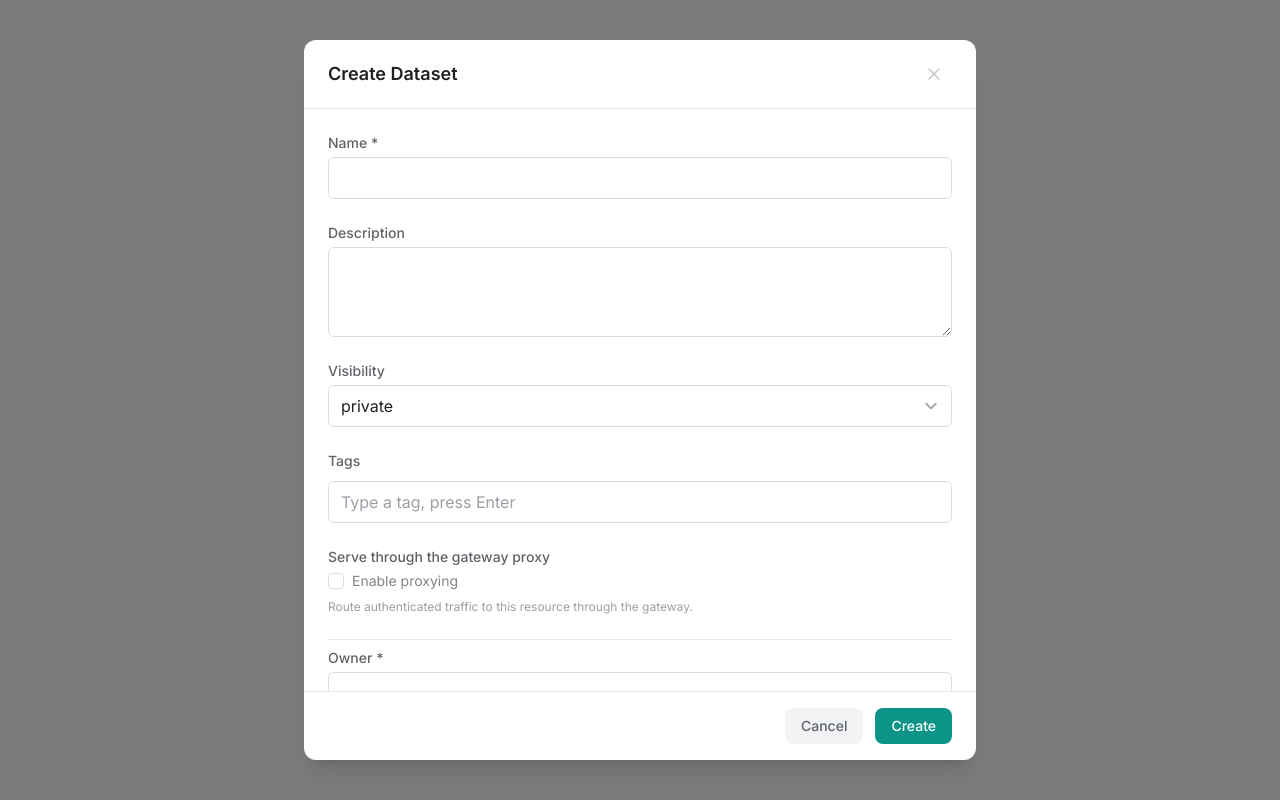
Test case: CustomEntityForm › blocks submit when proxying is on but the target URL is blank
Step 1. Type "proxied-ds" into the 1st field → (640, 178), box [328,157,952,199]
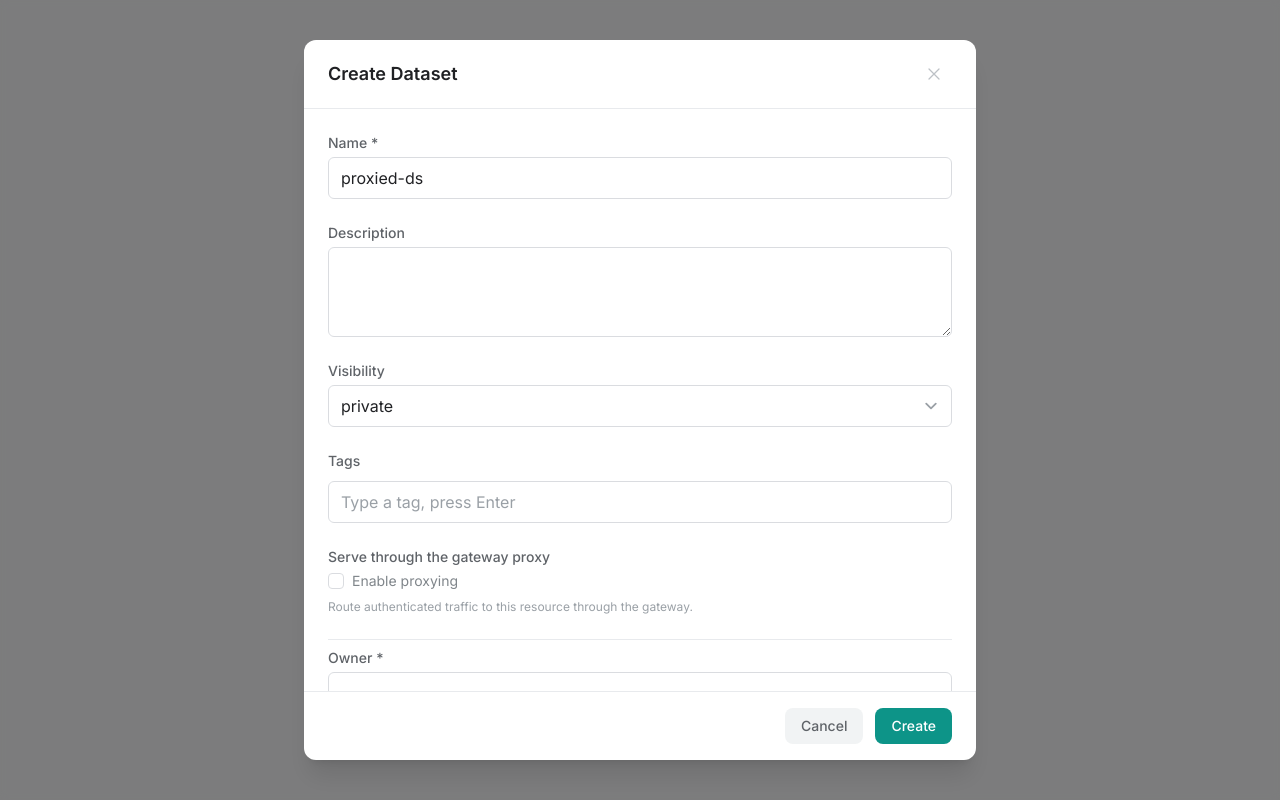
Step 2. Click the checkbox → (336, 581), box [328,573,344,589]
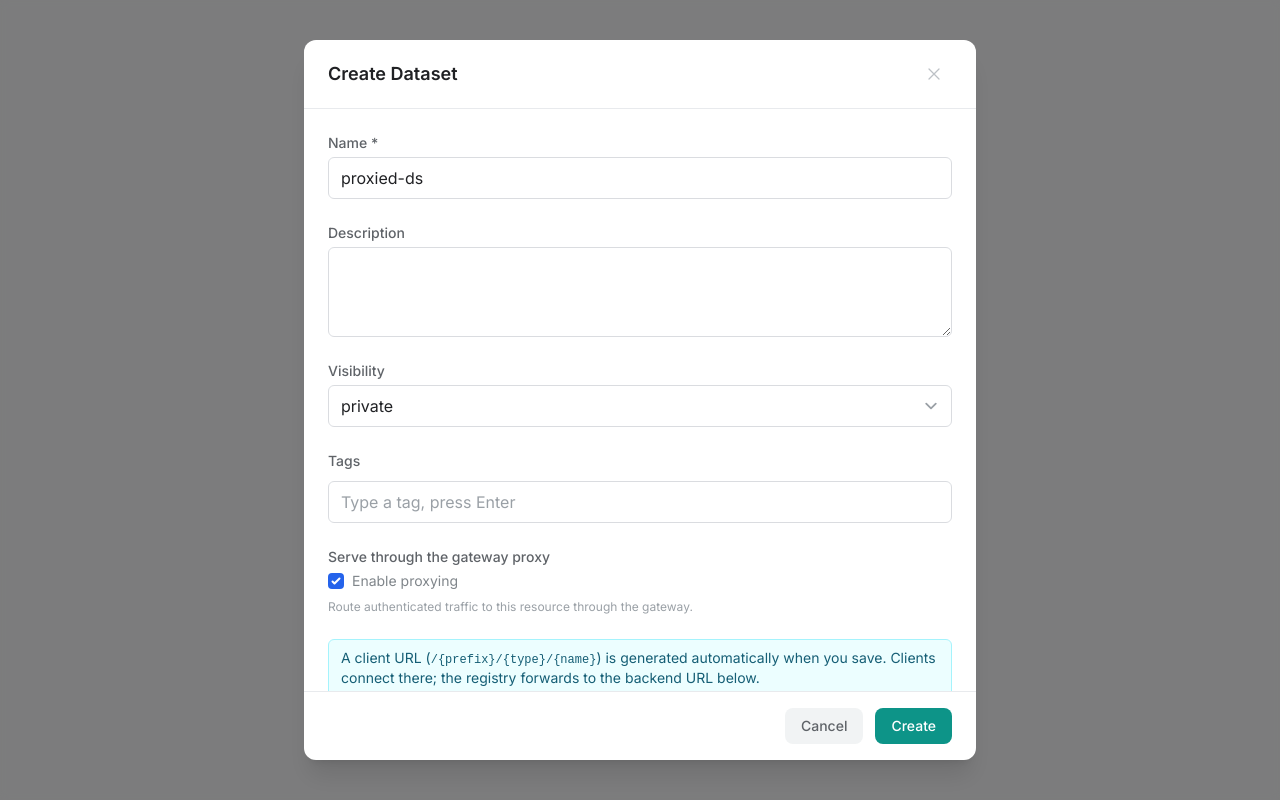
Step 3. Click the button "Create" → (914, 726), box [875,708,952,744]
(page scrolled)
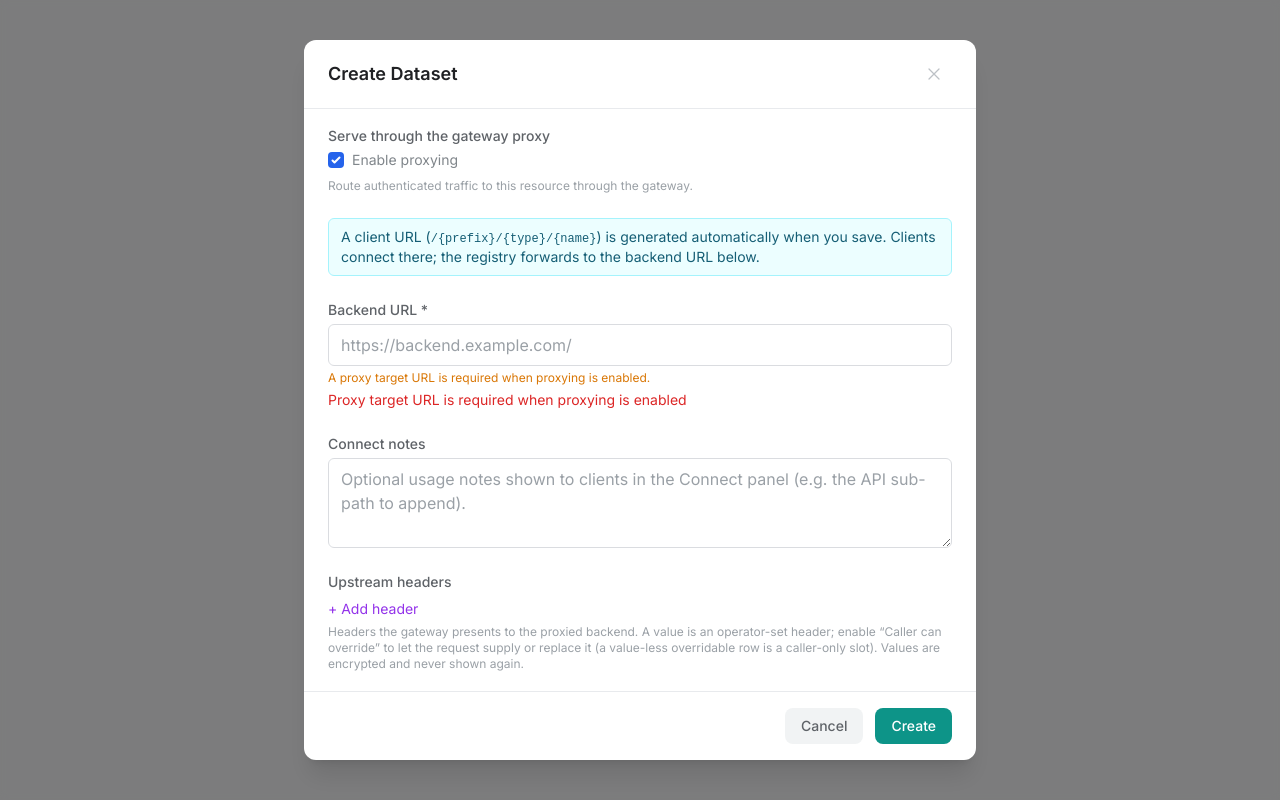
Now the text "Proxy target URL is required when proxying is enabled" is shown, box [328,391,687,408]
